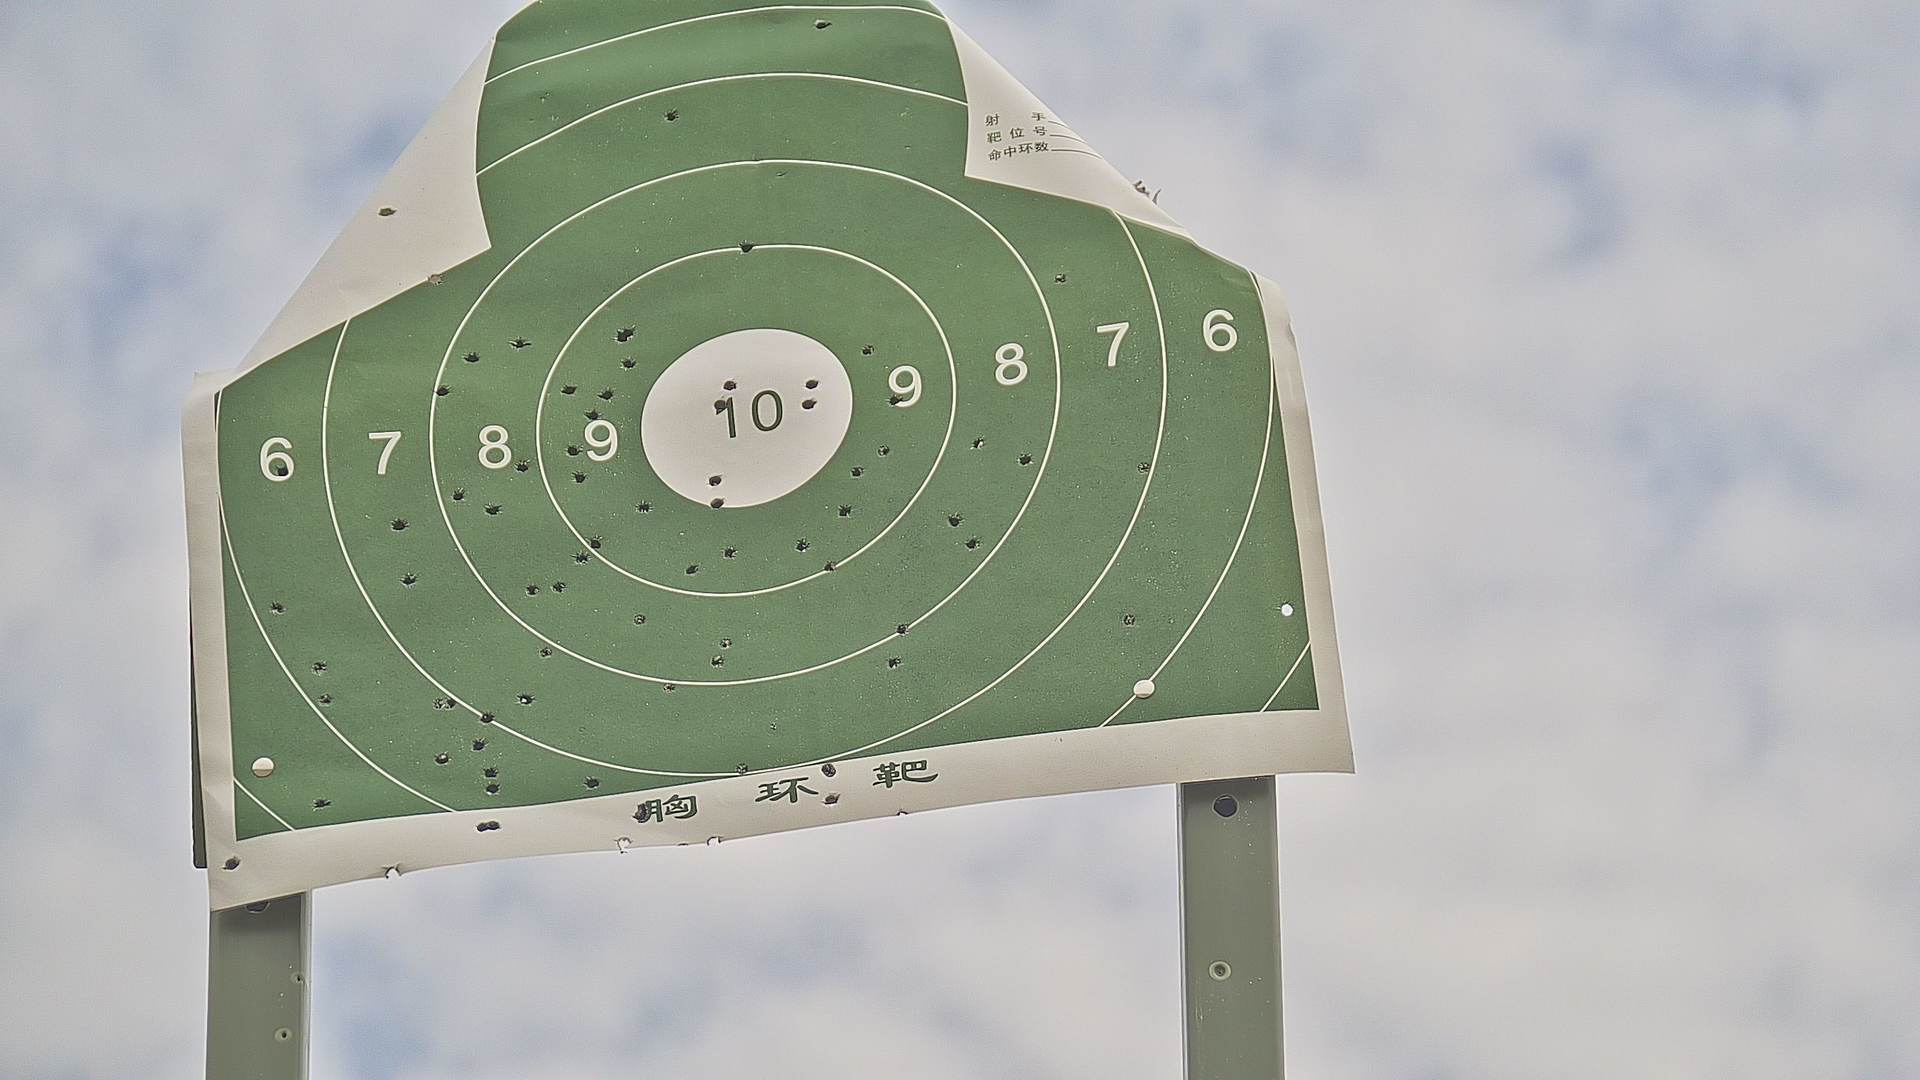hole: (636, 800, 653, 819), (820, 762, 837, 779), (517, 691, 535, 707), (483, 782, 502, 796), (705, 473, 727, 487), (837, 502, 853, 520), (709, 653, 727, 669), (822, 793, 839, 808), (481, 764, 498, 779), (514, 458, 531, 473), (616, 326, 636, 339), (886, 655, 902, 671), (435, 382, 451, 398), (429, 272, 444, 287), (663, 109, 680, 124), (392, 517, 409, 531), (582, 777, 601, 789), (1279, 601, 1294, 617), (1017, 452, 1033, 467), (858, 342, 874, 356), (434, 750, 448, 766), (488, 818, 502, 833), (268, 599, 284, 613), (967, 535, 980, 553), (630, 613, 647, 626), (564, 444, 582, 458), (469, 738, 487, 752), (313, 796, 330, 810), (484, 502, 501, 516), (738, 240, 753, 255), (971, 435, 985, 450), (735, 762, 749, 777), (541, 644, 554, 659), (949, 512, 961, 529), (613, 836, 632, 847), (804, 376, 819, 389), (723, 377, 737, 390), (709, 496, 724, 509), (638, 498, 653, 512), (585, 407, 599, 422), (313, 659, 327, 673), (452, 487, 465, 501), (795, 538, 807, 554), (684, 562, 700, 574), (601, 386, 613, 402), (560, 382, 576, 394), (316, 692, 332, 704), (404, 570, 415, 585), (463, 351, 479, 363), (800, 398, 818, 409), (665, 678, 675, 695), (895, 622, 909, 636), (713, 398, 727, 411), (724, 546, 736, 560), (621, 357, 636, 369), (512, 335, 524, 349), (588, 538, 603, 550), (446, 695, 458, 709), (433, 695, 444, 709), (475, 819, 487, 833), (814, 18, 829, 29), (1138, 460, 1149, 476), (878, 442, 889, 458), (1124, 613, 1135, 626), (886, 396, 899, 407), (851, 463, 862, 476), (574, 553, 587, 564), (553, 582, 566, 593), (822, 560, 836, 571), (719, 637, 733, 647), (526, 584, 538, 596), (276, 463, 287, 475), (574, 469, 584, 483), (481, 712, 495, 723), (1054, 272, 1065, 282), (615, 332, 628, 342)
kernel: (741, 411, 746, 419)
target: (214, 1, 1324, 839)
ten: (641, 328, 853, 505)
